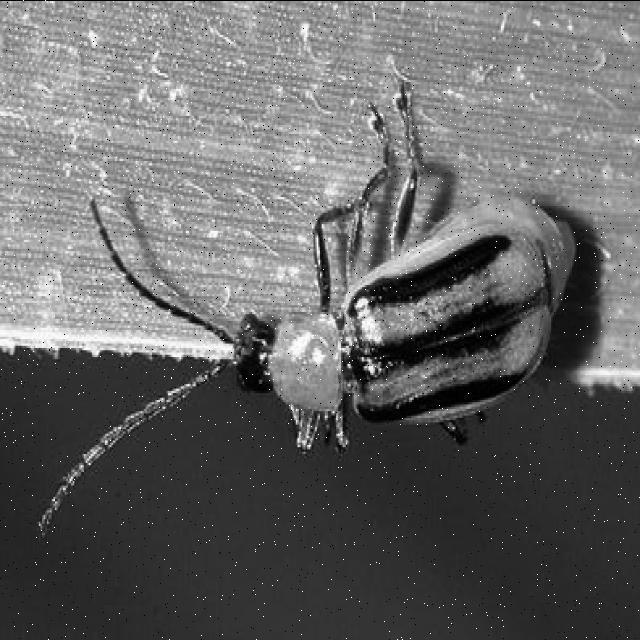trips: (40, 82, 578, 533)
